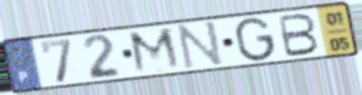2: (80, 32, 124, 83)
7: (37, 36, 75, 85)
B: (277, 12, 321, 59)
G: (233, 16, 278, 64)
M: (125, 25, 185, 76)
N: (176, 19, 225, 71)
